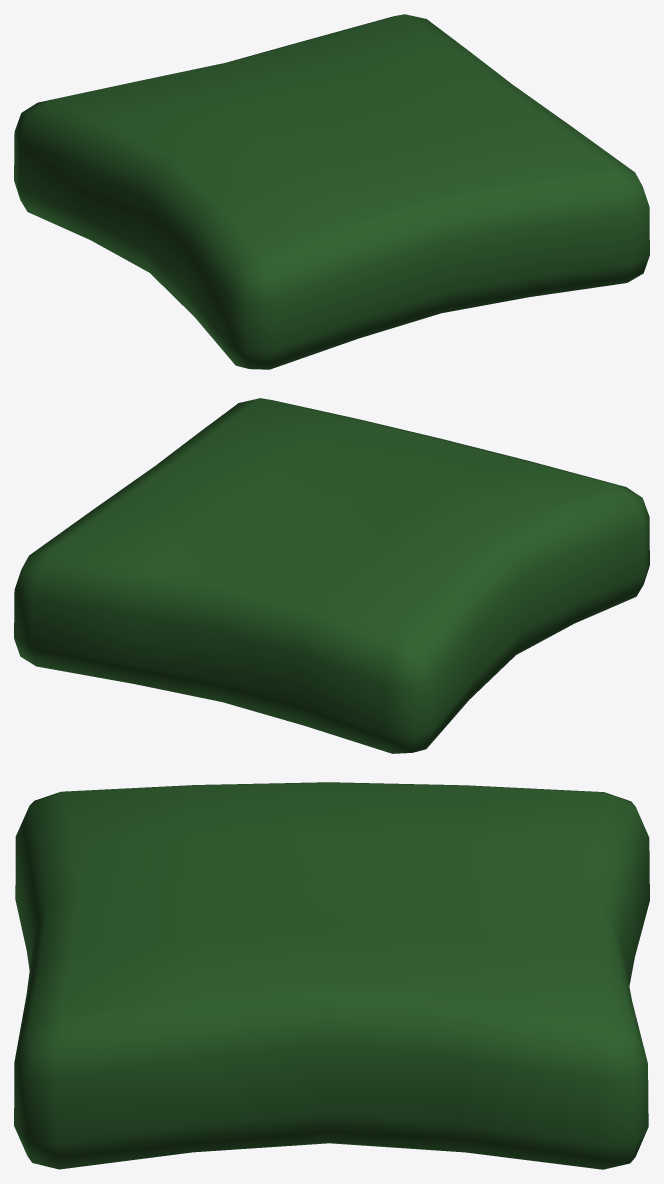
The model's file is Cojin2.fbx.
3 views of the same model, one above another, from view 1: azimuth 30°, elevation 25°; view 2: azimuth 150°, elevation 25°; view 3: azimuth 270°, elevation 25° (orthographic). The views are drawn at different scales.
Visible parts, largest first — view 1: Cube.002; view 2: Cube.002; view 3: Cube.002.
Boxes of the visible parts, box(x1,y1,x2,y2) form: Cube.002: box(14, 14, 649, 369); Cube.002: box(14, 398, 649, 753); Cube.002: box(14, 782, 649, 1169).
Bounding box in the file's own units: 437 × 132 × 443.
